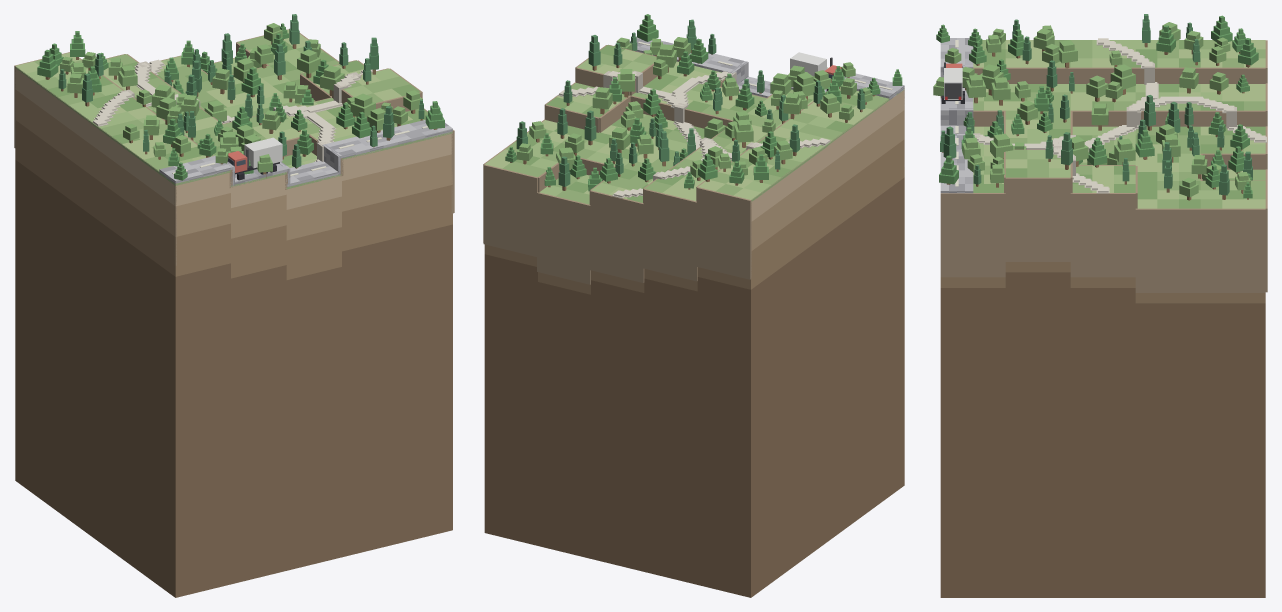
Rendered from block_3_permeable_10.glb.
3 views of the same model, side by side, from view 1: azimuth 30°, elevation 25°; view 2: azimuth 150°, elevation 25°; view 3: azimuth 270°, elevation 25° (orthographic). The views are drawn at different scales.
Parts seen in each view (by area): view 1: Patch_UpperLeft_b08_PP, Ghats_UpperLeft_b08_PP, Roads_UpperLeft_b08_PP, ULCar_002_PP; view 2: Patch_UpperLeft_b08_PP, Ghats_UpperLeft_b08_PP, Roads_UpperLeft_b08_PP, ULCar_002_PP; view 3: Patch_UpperLeft_b08_PP, Ghats_UpperLeft_b08_PP, Roads_UpperLeft_b08_PP, ULCar_002_PP, ULG_T242_PP.
Part boxes in pixels (x1,y1,x2,y2): Patch_UpperLeft_b08_PP: [15, 68, 452, 597]; Ghats_UpperLeft_b08_PP: [14, 29, 454, 265]; Roads_UpperLeft_b08_PP: [159, 120, 452, 187]; ULCar_002_PP: [227, 137, 282, 180]; Patch_UpperLeft_b08_PP: [484, 90, 904, 597]; Ghats_UpperLeft_b08_PP: [483, 44, 904, 284]; Roads_UpperLeft_b08_PP: [629, 36, 904, 100]; ULCar_002_PP: [790, 52, 841, 90]; Patch_UpperLeft_b08_PP: [940, 262, 1265, 597]; Ghats_UpperLeft_b08_PP: [940, 38, 1267, 292]; Roads_UpperLeft_b08_PP: [940, 38, 973, 193]; ULCar_002_PP: [941, 62, 964, 103]; ULG_T242_PP: [1110, 64, 1135, 94].
Size of the model in its own units: 9.55 by 14.72 by 9.76.
